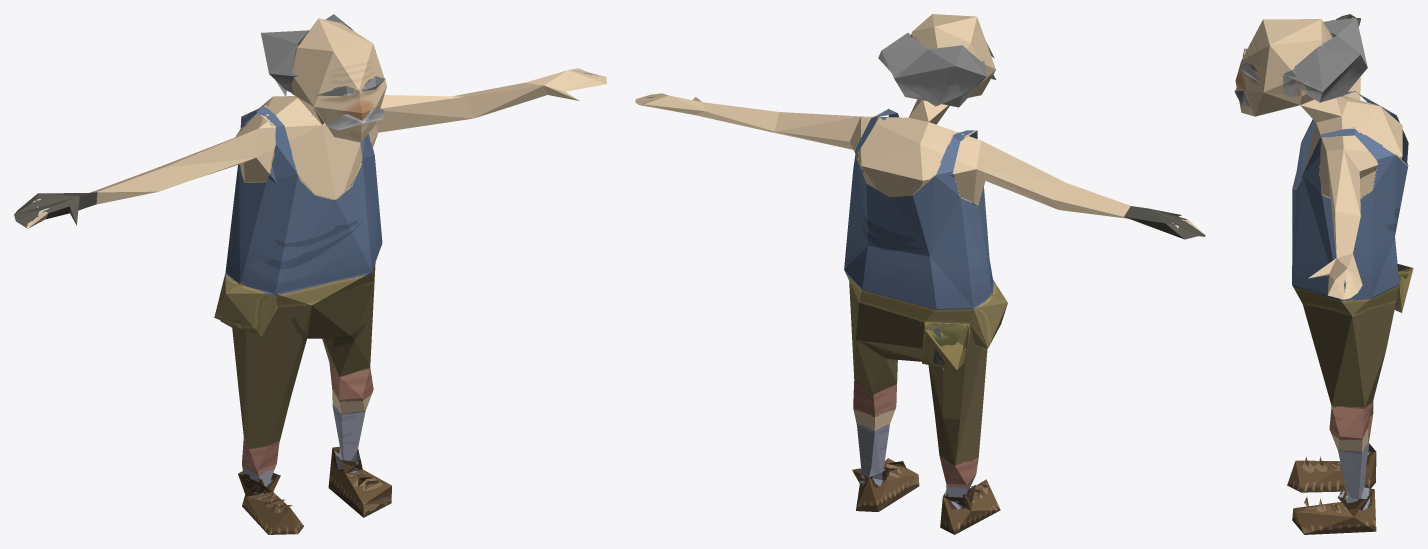
The model's file is oldman.fbx.
The picture shows the model from 3 angles, left to right: view 1: azimuth 30°, elevation 25°; view 2: azimuth 150°, elevation 25°; view 3: azimuth 270°, elevation 25°; orthographic projection. The views are drawn at different scales.
Visible parts, largest first — view 1: body; view 2: body; view 3: body.
Boxes of the visible parts, left/top/right/bottom form: body: left=14, top=14, right=606, bottom=534; body: left=635, top=14, right=1205, bottom=534; body: left=1234, top=14, right=1413, bottom=534.
Size of the model in its own units: 601 by 482 by 161.
Materials: 1 (1 with a texture image).
